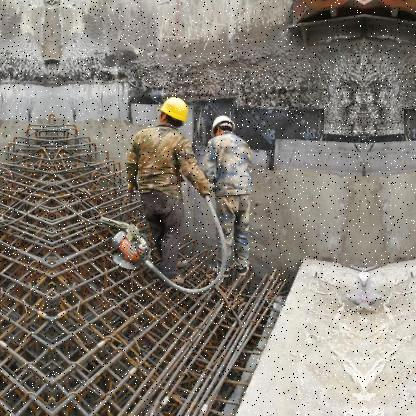helmet: (158, 92, 192, 132), (210, 112, 239, 143)
